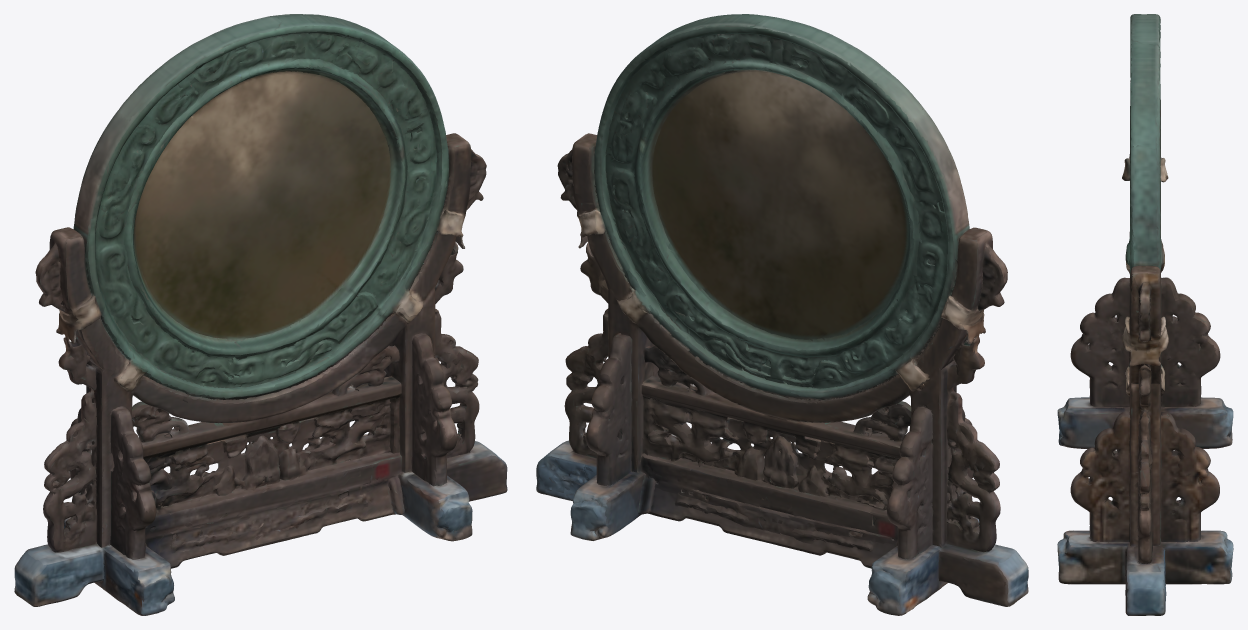
File: S1-01_karma_mirror_A.glb
3 renders of one model, left to right at view 1: azimuth 30°, elevation 25°; view 2: azimuth 150°, elevation 25°; view 3: azimuth 270°, elevation 25°, orthographic. The views are drawn at different scales.
Parts seen in each view (by area): view 1: geometry_0; view 2: geometry_0; view 3: geometry_0.
Boxes of the visible parts, x1,y1,x2,y2 form: geometry_0: (14, 14, 507, 615); geometry_0: (536, 14, 1028, 615); geometry_0: (1057, 14, 1233, 615).
Size of the model in its own units: 2.4 by 2.5 by 0.8381.
1 material, 1 textured.
